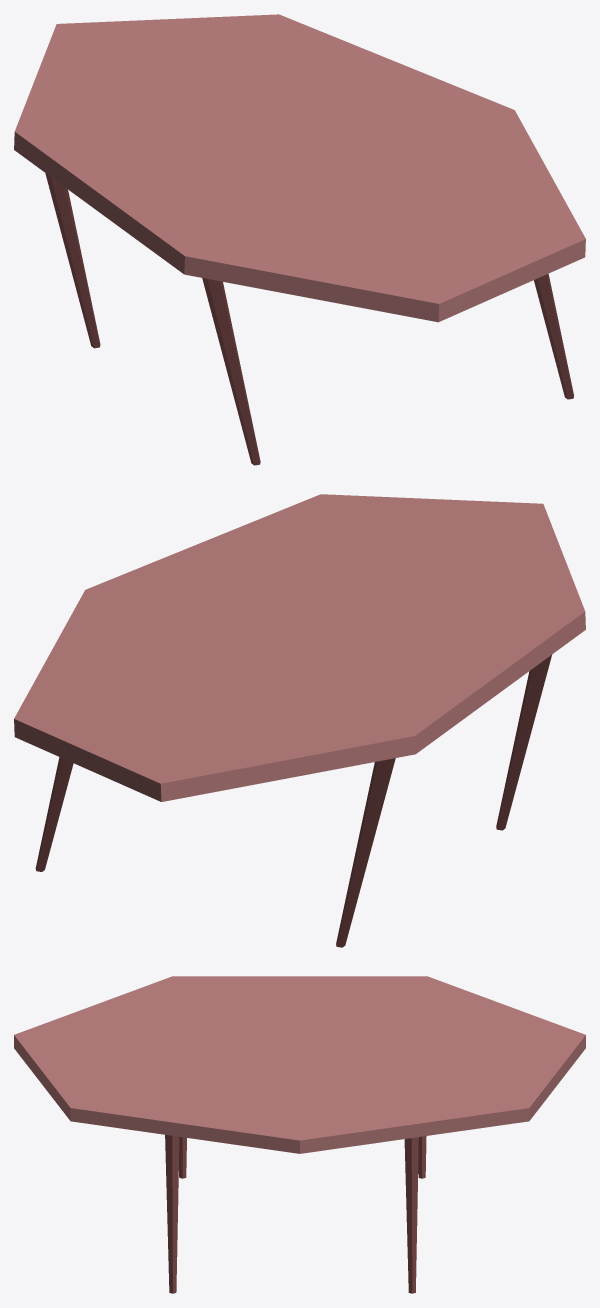
File: table_modern.fbx
3 renders of one model, top to bottom at view 1: azimuth 30°, elevation 25°; view 2: azimuth 150°, elevation 25°; view 3: azimuth 270°, elevation 25°, orthographic. The views are drawn at different scales.
Parts seen in each view (by area): view 1: pCylinder16, pCylinder17, pCylinder20, pCylinder18; view 2: pCylinder16, pCylinder20, pCylinder17, pCylinder19; view 3: pCylinder16, pCylinder18, pCylinder19.
Boxes of the visible parts, x1=… form: pCylinder16: x1=14, y1=14, x2=585, y2=322; pCylinder17: x1=202, y1=278, x2=260, y2=465; pCylinder20: x1=45, y1=173, x2=100, y2=348; pCylinder18: x1=534, y1=273, x2=573, y2=399; pCylinder16: x1=14, y1=494, x2=585, y2=801; pCylinder20: x1=336, y1=758, x2=395, y2=947; pCylinder17: x1=496, y1=654, x2=552, y2=830; pCylinder19: x1=35, y1=757, x2=73, y2=871; pCylinder16: x1=14, y1=976, x2=585, y2=1153; pCylinder18: x1=165, y1=1135, x2=179, y2=1293; pCylinder19: x1=404, y1=1137, x2=418, y2=1293.
Size of the model in its own units: 129 by 69.71 by 205.
